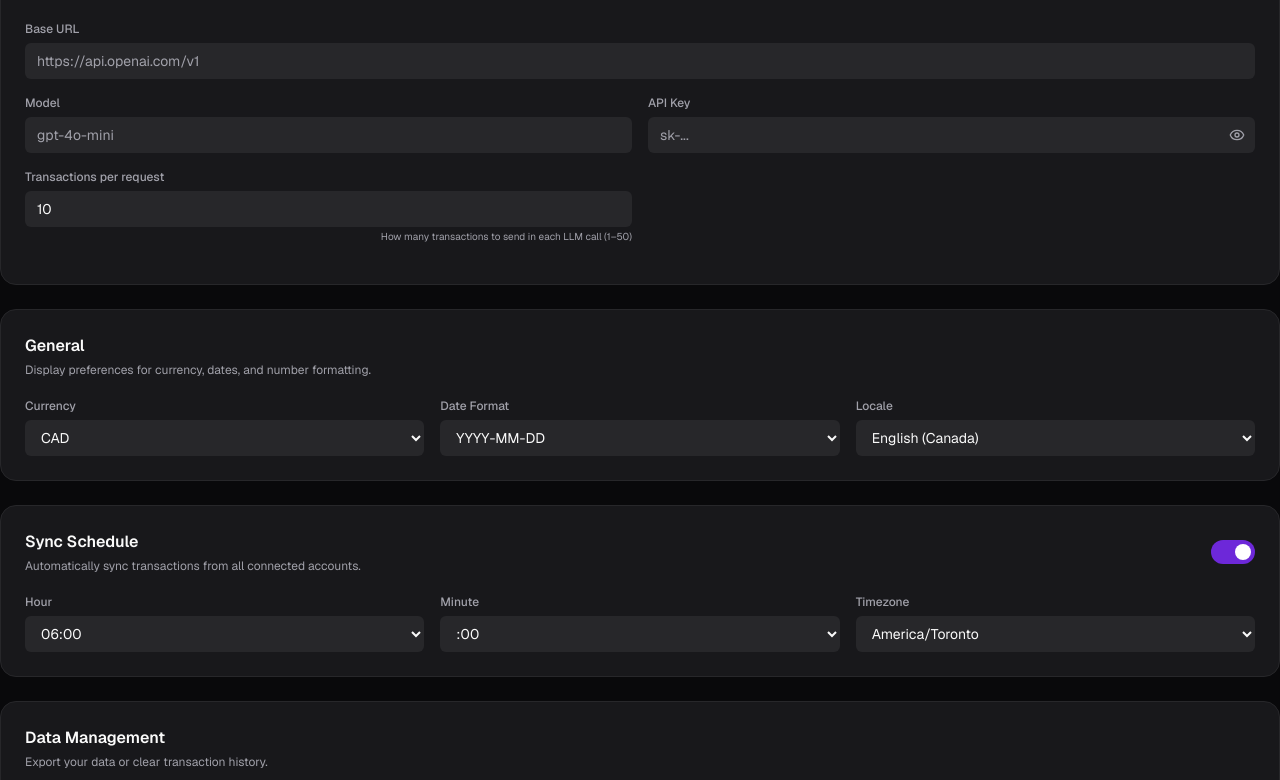
SettingsPage › GeneralSection save flash › shows 'Settings saved' after saving general settings
(page scrolled)
Expected: the text "Currency" is shown, [25,398,76,414]
Step 1. Select "USD" in the 1st dropdown showing "CAD" → (225, 438), box [25,420,424,456]
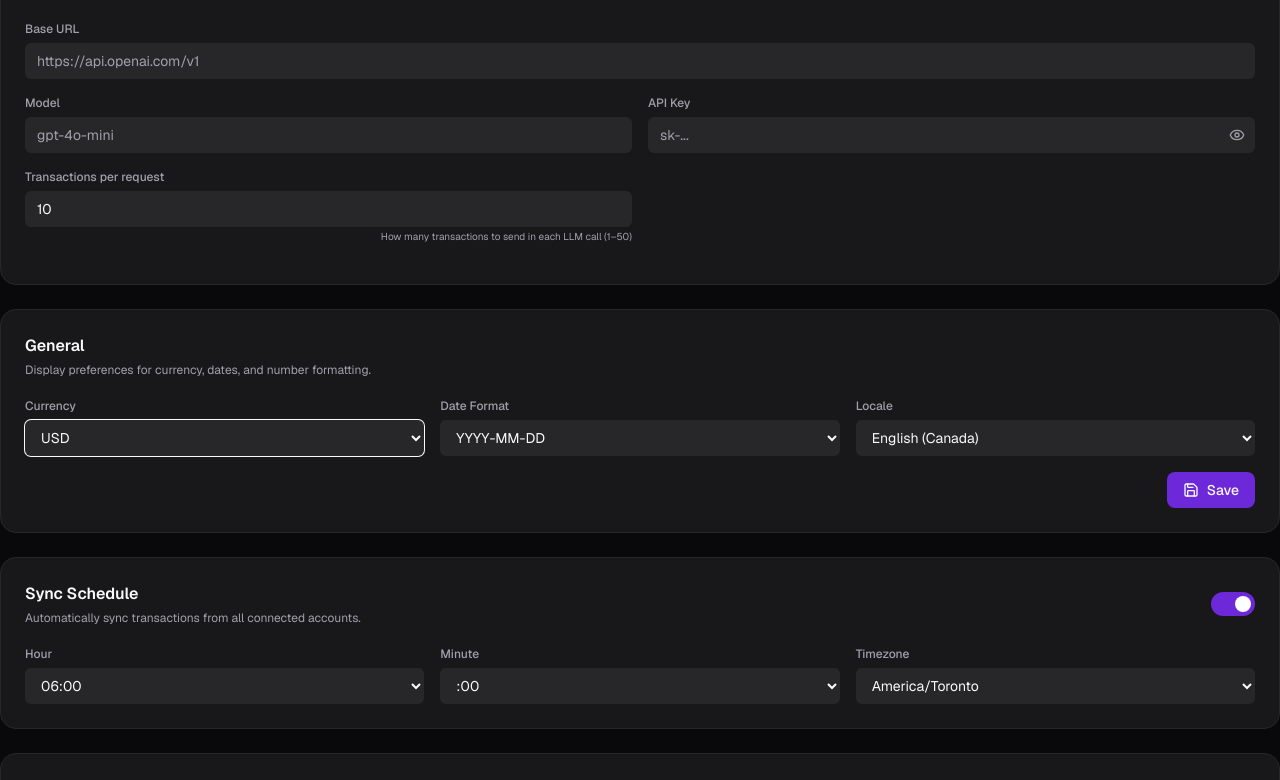
Step 2. Click the button "Save" → (1211, 490), box [1167,472,1255,508]
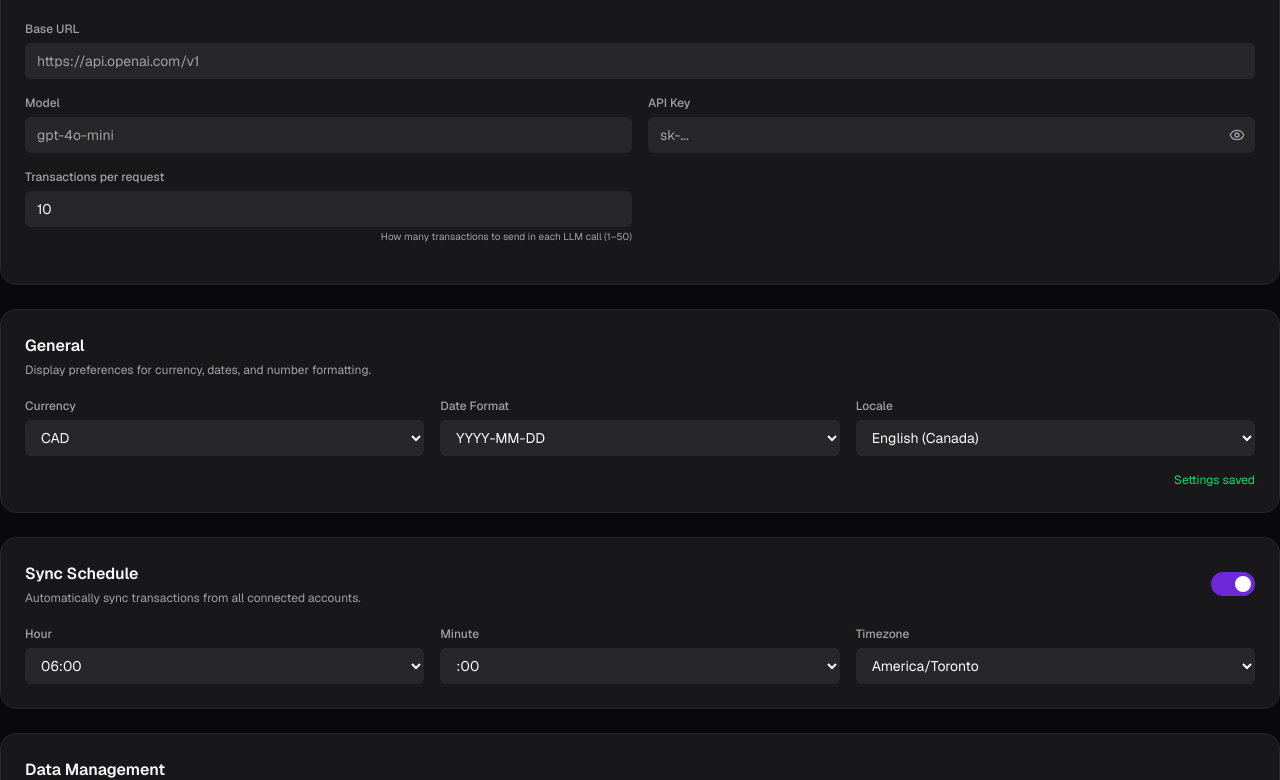
Now the text "Settings saved" is shown, box [1174,472,1255,488]
